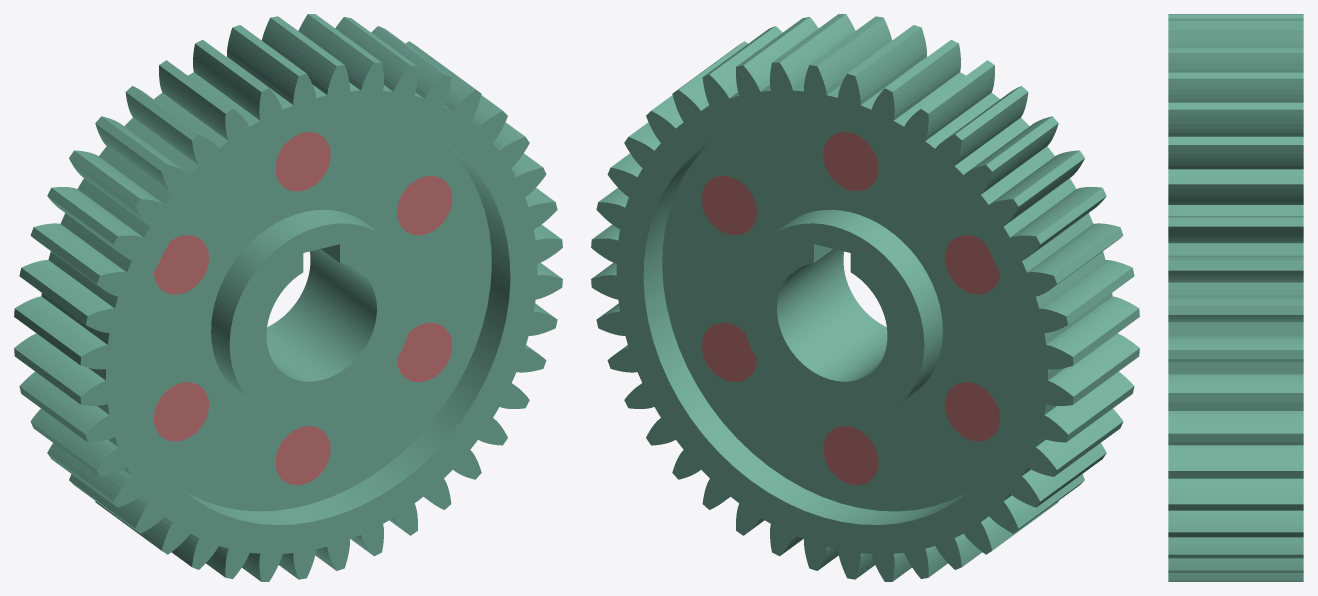
Rendered from step_16.glb.
3 views of the same model, side by side, from view 1: azimuth 30°, elevation 25°; view 2: azimuth 150°, elevation 25°; view 3: azimuth 270°, elevation 25° (orthographic).
Visible parts, largest first — view 1: part__gear wheel, removed__gear wheel; view 2: part__gear wheel, removed__gear wheel; view 3: part__gear wheel.
Part boxes in pixels (x1,y1,x2,y2): part__gear wheel: (14, 14, 562, 581); removed__gear wheel: (154, 132, 452, 485); part__gear wheel: (591, 14, 1139, 581); removed__gear wheel: (701, 132, 999, 485); part__gear wheel: (1168, 14, 1303, 581).
Bounding box in the file's own units: 105 × 105 × 25.
